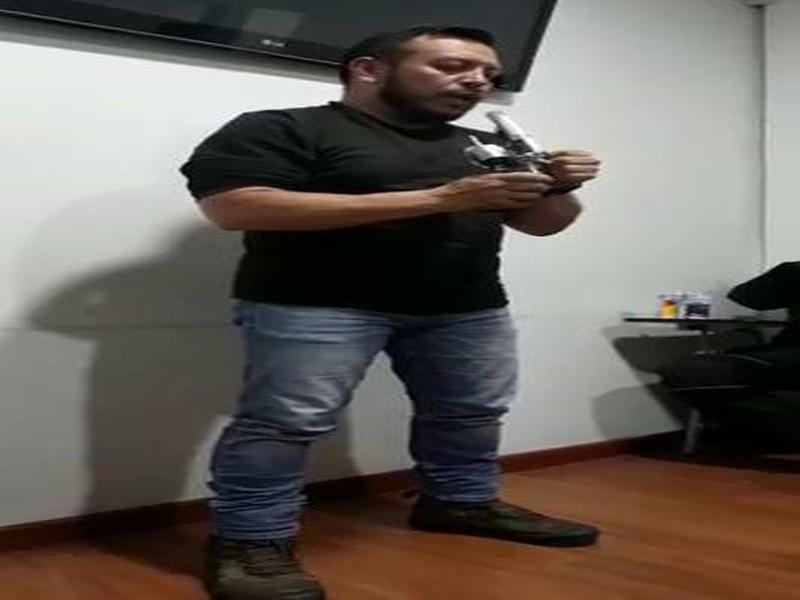Revolver: (462, 71, 561, 226)
